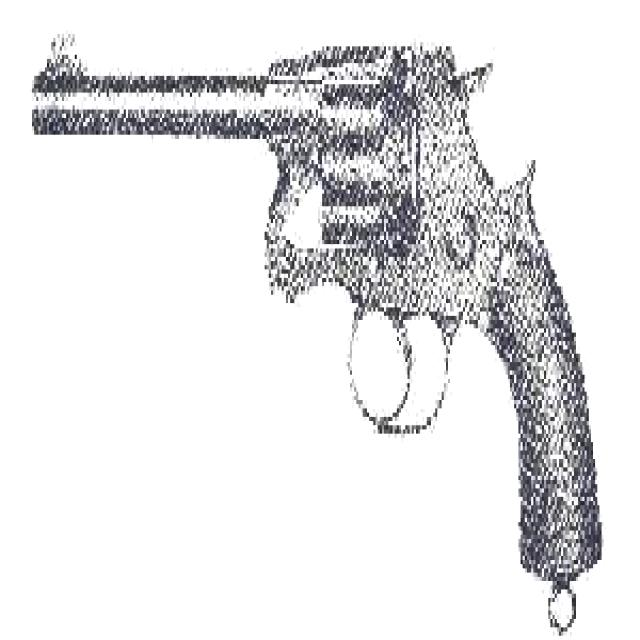pistol: (36, 16, 610, 572)
